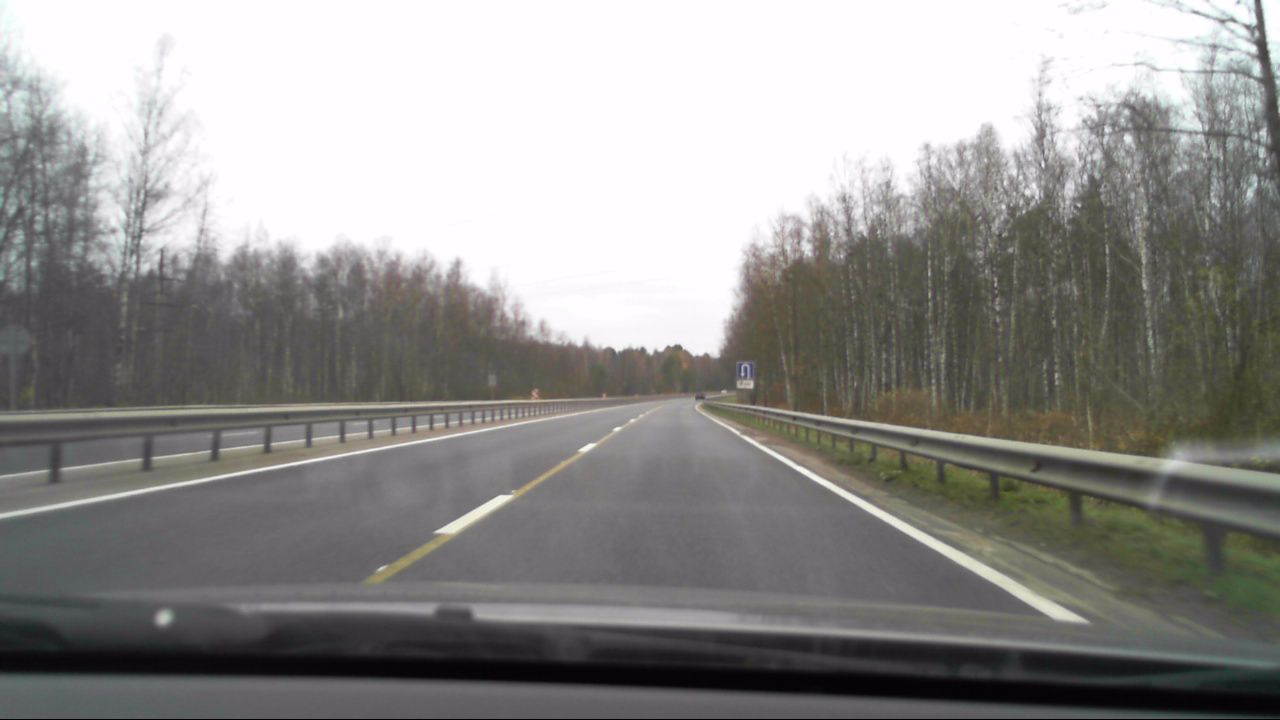U-turn: (736, 361, 753, 380)
